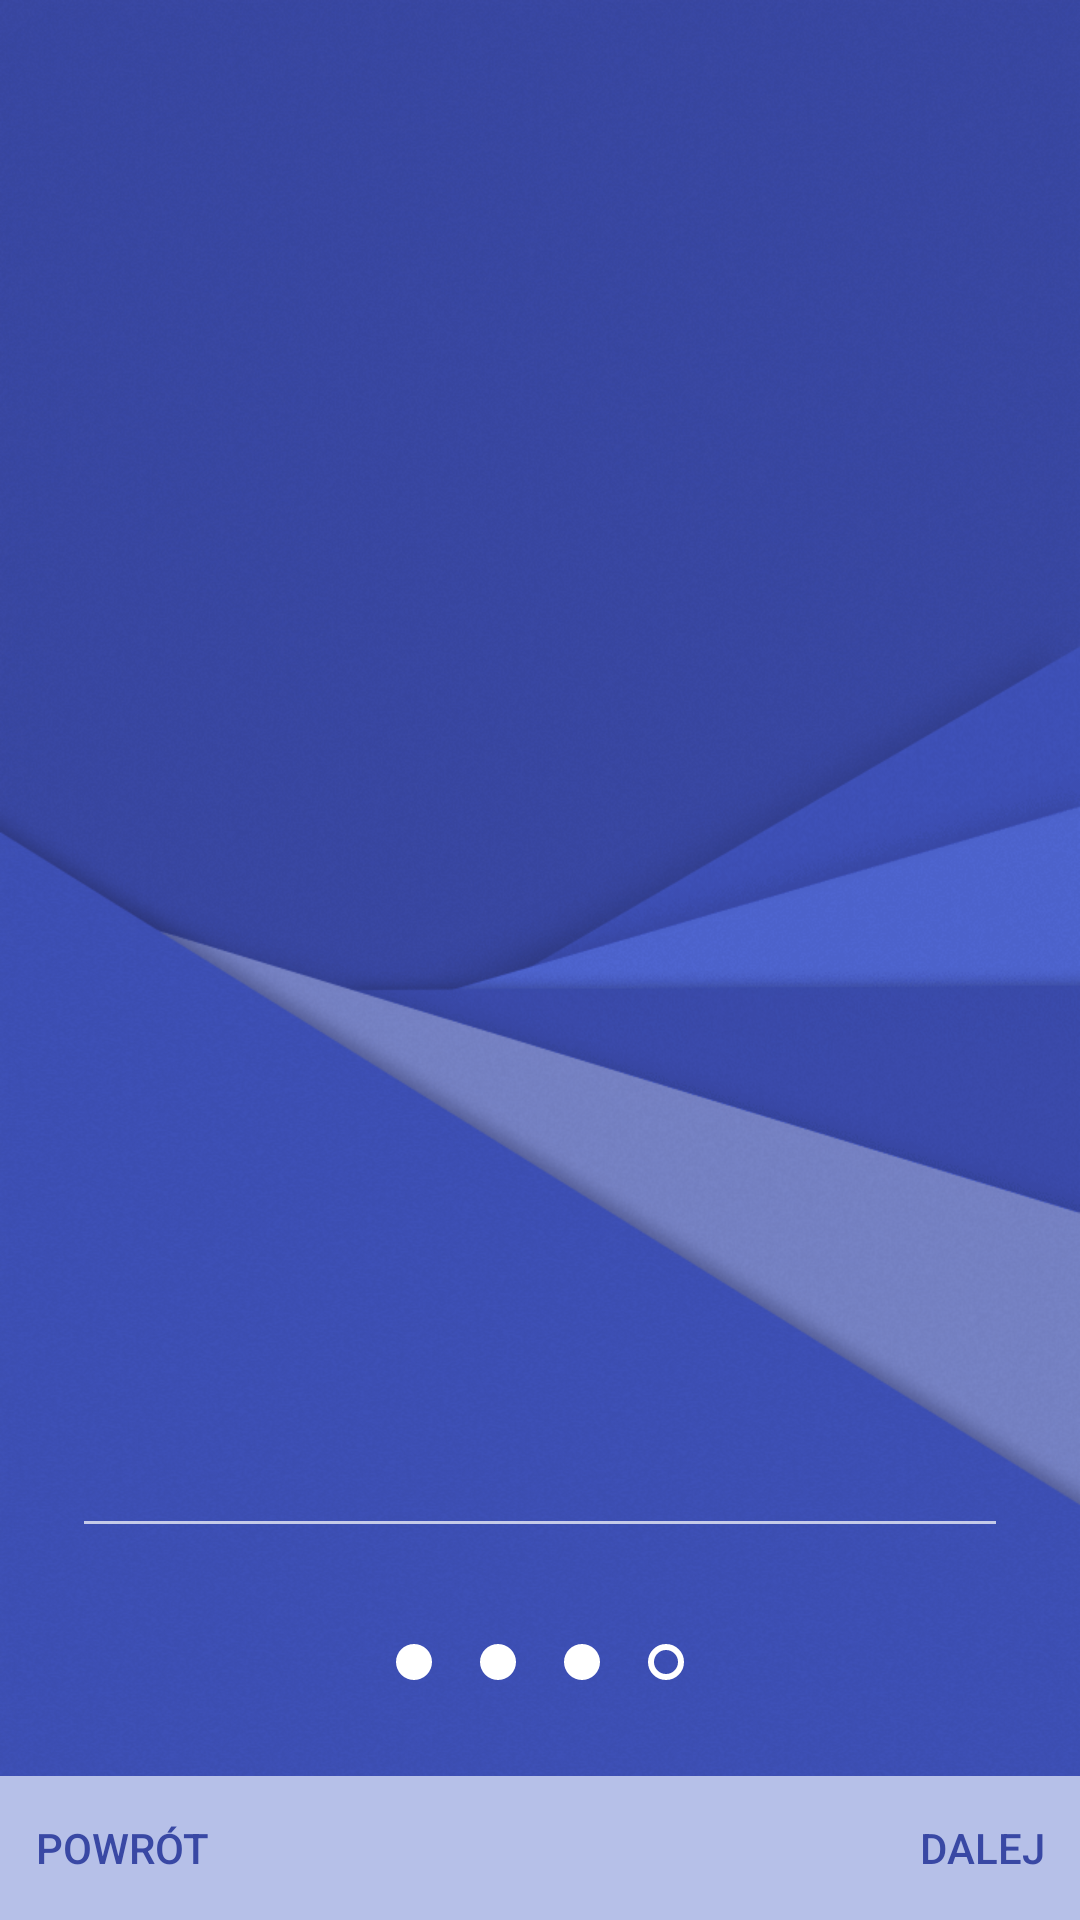

Icons on this 1080 x 1920 Android screen, each with its box as (x1, y1, x2, y2):
dot: (396, 1644, 432, 1680), (480, 1644, 516, 1680), (564, 1644, 600, 1680)
dot empty: (648, 1644, 684, 1680)
